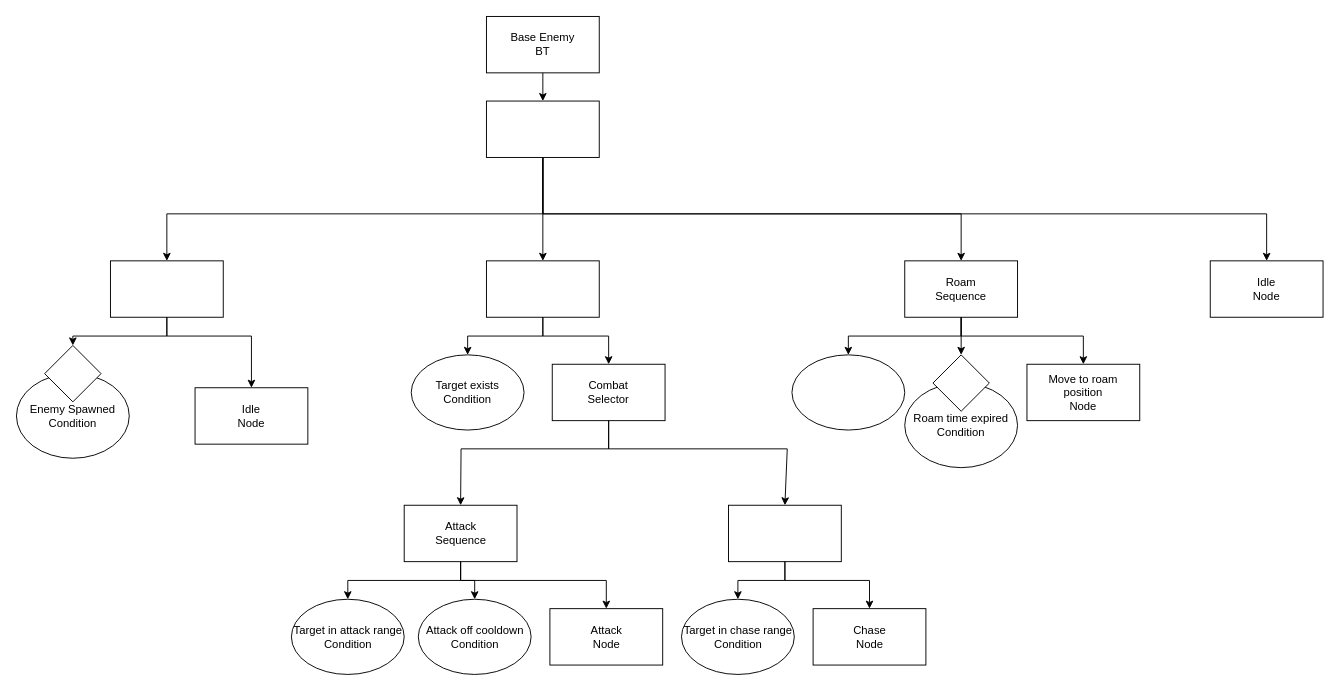
Image size: 1340x691. Some labels were removed from this diagram. Here are the shapes that lost their labels. From the top down, the centre of each, then its label:
At point (542, 128): "Root Priority Selector".
At point (166, 288): "Spawn Sequence".
At point (542, 288): "Combat Sequence".
At point (72, 373): "Inverter".
At point (848, 392): "Roam position != 0 Condition".
At point (960, 382): "Invertor".
At point (784, 533): "Chase Sequence".
